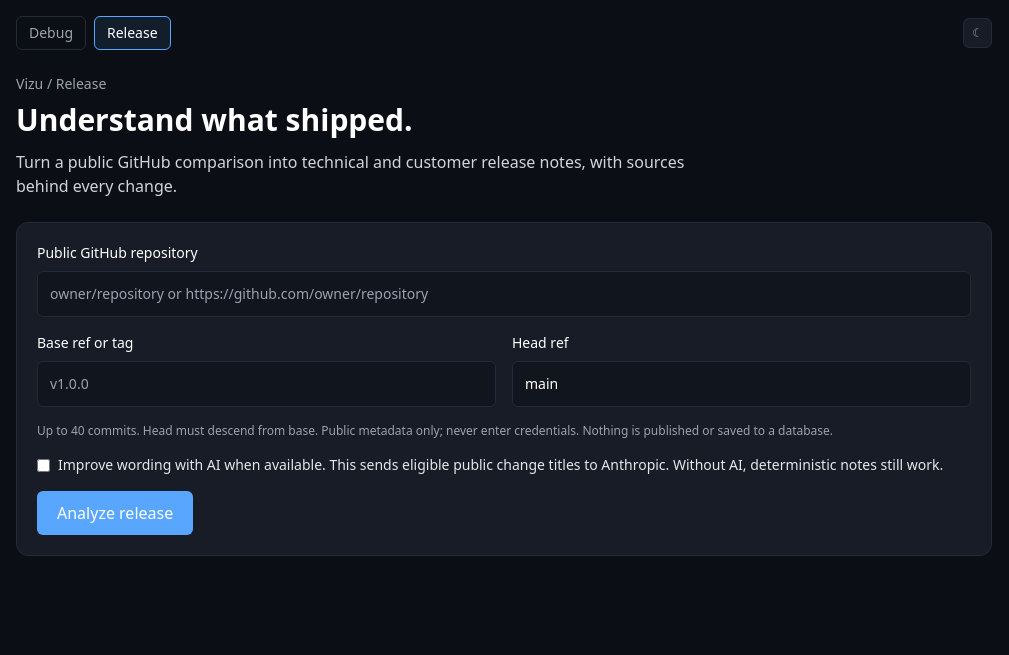
Test: Release interface › shows actionable API error
The image size is (1009, 655).
Type "example/project" into the field labelled "Public GitHub repository".
click(504, 294); type("example/project")  # box [37,271,971,317]
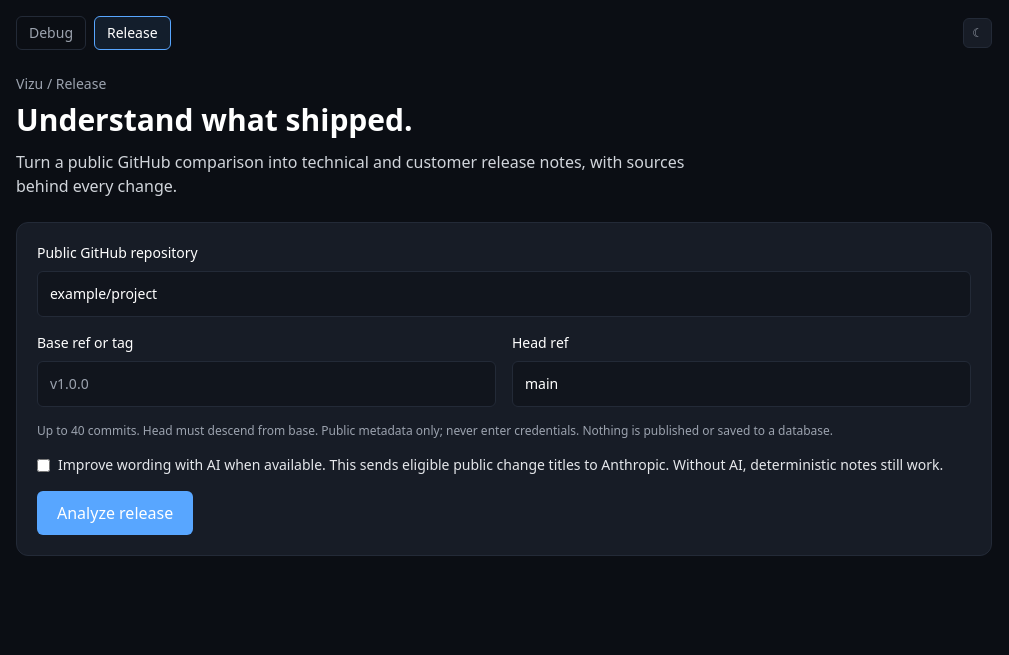
Type "v1" into the field labelled "Base ref or tag".
click(266, 384); type("v1")  # box [37,361,496,407]
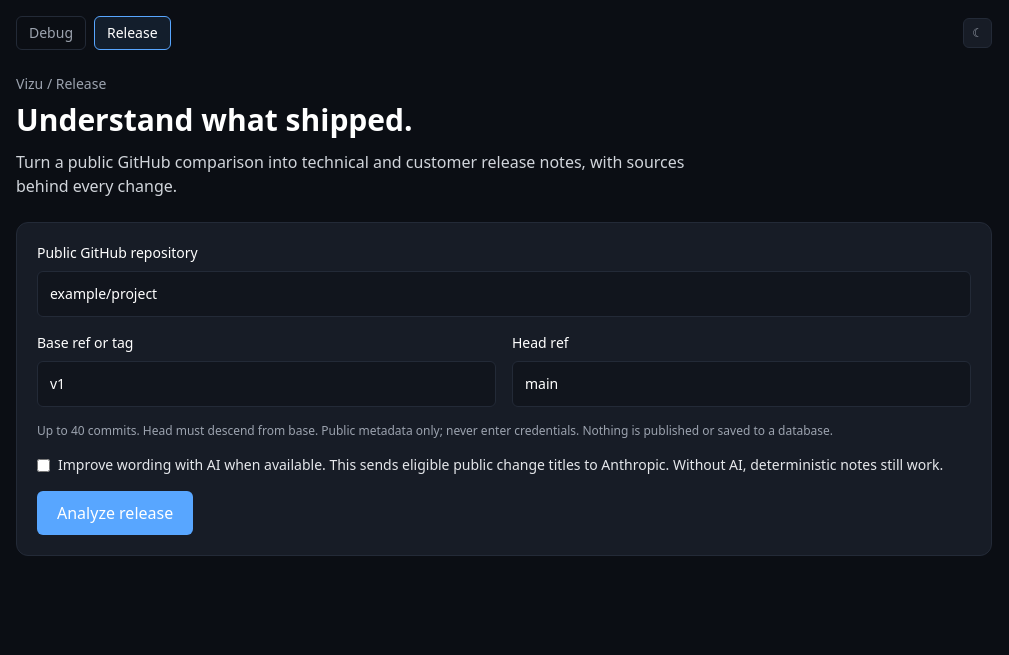
Click the button "Analyze release".
click(115, 513)  # box [37,491,193,535]
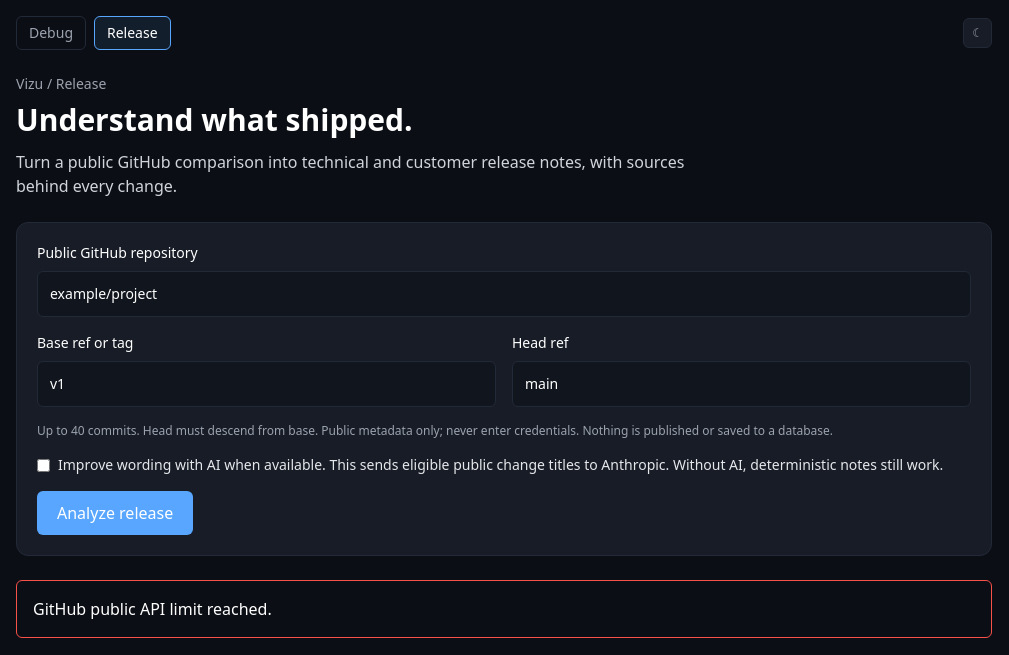
Result: the message reads "GitHub public API limit reached." at [33,598,272,620]
